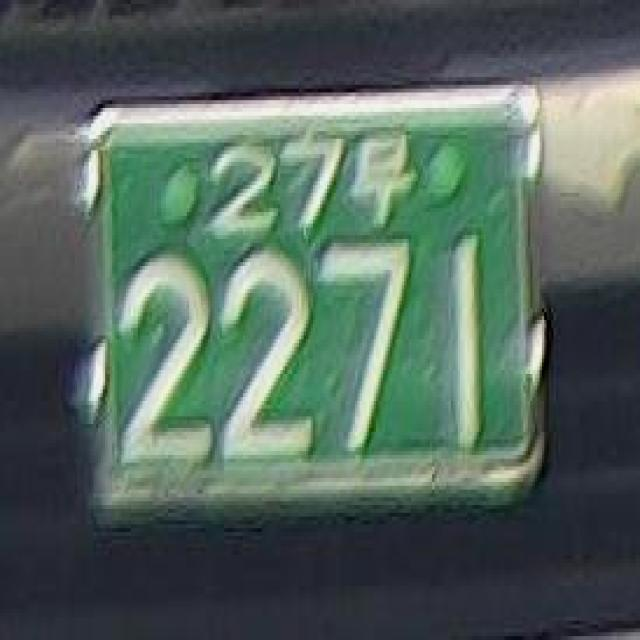illegal_plate: (70, 84, 554, 558)
